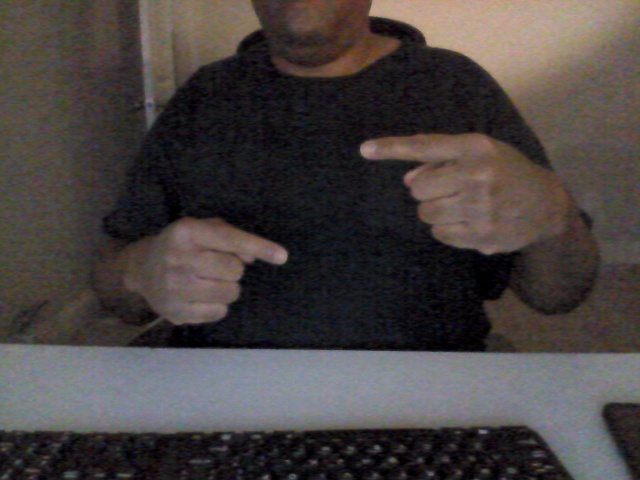go: (137, 131, 545, 337)
